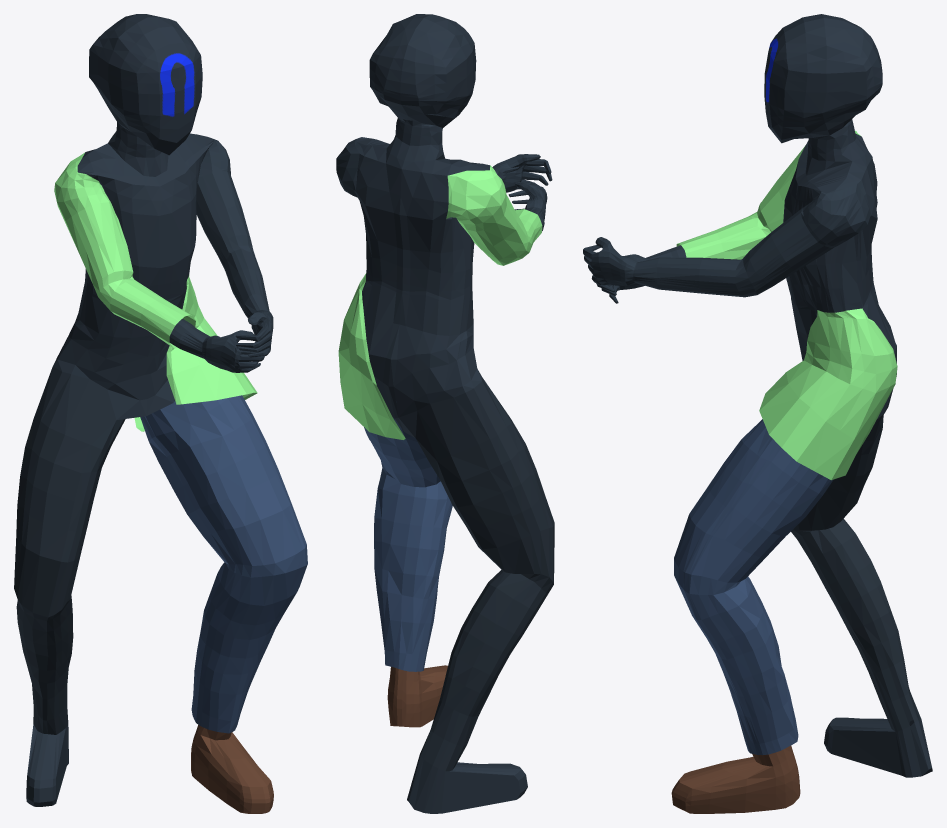
The model's file is Mar_WF_000023.obj.
3 views of the same model, side by side, from view 1: azimuth 30°, elevation 25°; view 2: azimuth 150°, elevation 25°; view 3: azimuth 270°, elevation 25° (orthographic). The views are drawn at different scales.
Visible parts, largest first — view 1: Cube.000_Cube.001; view 2: Cube.000_Cube.001; view 3: Cube.000_Cube.001.
Boxes of the visible parts, box(x1,y1,x2,y2) form: Cube.000_Cube.001: box(14, 14, 307, 813); Cube.000_Cube.001: box(336, 14, 554, 813); Cube.000_Cube.001: box(583, 14, 932, 813).
Bounding box in the file's own units: 1.15 × 3.7 × 1.5.
